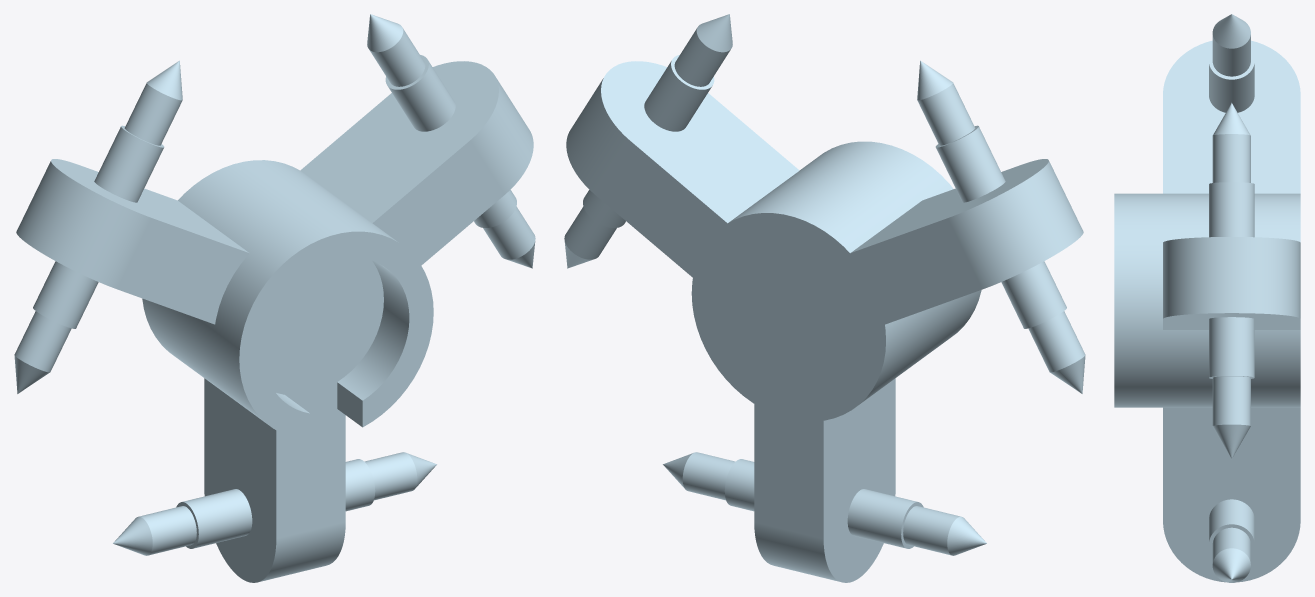
The picture shows the model from 3 angles, left to right: view 1: azimuth 30°, elevation 25°; view 2: azimuth 150°, elevation 25°; view 3: azimuth 270°, elevation 25°; orthographic projection. The views are drawn at different scales.
Parts seen in each view (by area): view 1: mesh160, mesh159, mesh141, mesh162, mesh138, mesh129, mesh128, mesh140, mesh161, mesh139, mesh127, mesh126 (+16 smaller); view 2: mesh135, mesh159, mesh141, mesh138, mesh129, mesh139, mesh127, mesh126, mesh136, mesh143, mesh131, mesh155 (+11 smaller); view 3: mesh159, mesh137, mesh127, mesh139, mesh151, mesh155, mesh153, mesh157, mesh142, mesh126, mesh147, mesh124 (+7 smaller).
Boxes of the visible parts, x1=… form: mesh160: x1=263, y1=257, x2=383, y2=538; mesh159: x1=142, y1=160, x2=398, y2=422; mesh141: x1=300, y1=61, x2=498, y2=223; mesh162: x1=239, y1=231, x2=433, y2=440; mesh138: x1=204, y1=378, x2=276, y2=582; mesh129: x1=16, y1=161, x2=151, y2=289; mesh128: x1=117, y1=218, x2=249, y2=324; mesh140: x1=372, y1=141, x2=504, y2=265; mesh161: x1=276, y1=261, x2=409, y2=413; mesh139: x1=470, y1=78, x2=533, y2=194; mesh127: x1=51, y1=159, x2=248, y2=252; mesh126: x1=94, y1=127, x2=163, y2=202; mesh135: x1=595, y1=141, x2=982, y2=538; mesh159: x1=729, y1=141, x2=981, y2=404; mesh141: x1=601, y1=61, x2=799, y2=223; mesh138: x1=823, y1=378, x2=895, y2=582; mesh129: x1=948, y1=161, x2=1083, y2=289; mesh139: x1=566, y1=78, x2=629, y2=194; mesh127: x1=851, y1=159, x2=1048, y2=252; mesh126: x1=936, y1=127, x2=1005, y2=202; mesh136: x1=754, y1=522, x2=841, y2=582; mesh143: x1=847, y1=489, x2=917, y2=548; mesh131: x1=1001, y1=261, x2=1066, y2=328; mesh155: x1=644, y1=61, x2=711, y2=131; mesh159: x1=1114, y1=193, x2=1300, y2=407; mesh137: x1=1163, y1=407, x2=1300, y2=582; mesh127: x1=1163, y1=40, x2=1300, y2=193; mesh139: x1=1163, y1=237, x2=1300, y2=318; mesh151: x1=1209, y1=317, x2=1254, y2=377; mesh155: x1=1209, y1=182, x2=1254, y2=237; mesh153: x1=1212, y1=376, x2=1250, y2=425; mesh157: x1=1212, y1=134, x2=1250, y2=182; mesh142: x1=1163, y1=313, x2=1300, y2=329; mesh126: x1=1209, y1=64, x2=1254, y2=112; mesh147: x1=1209, y1=499, x2=1254, y2=541; mesh124: x1=1212, y1=35, x2=1250, y2=76.
Size of the model in its own units: 0.0742 by 0.0732 by 0.0244.
